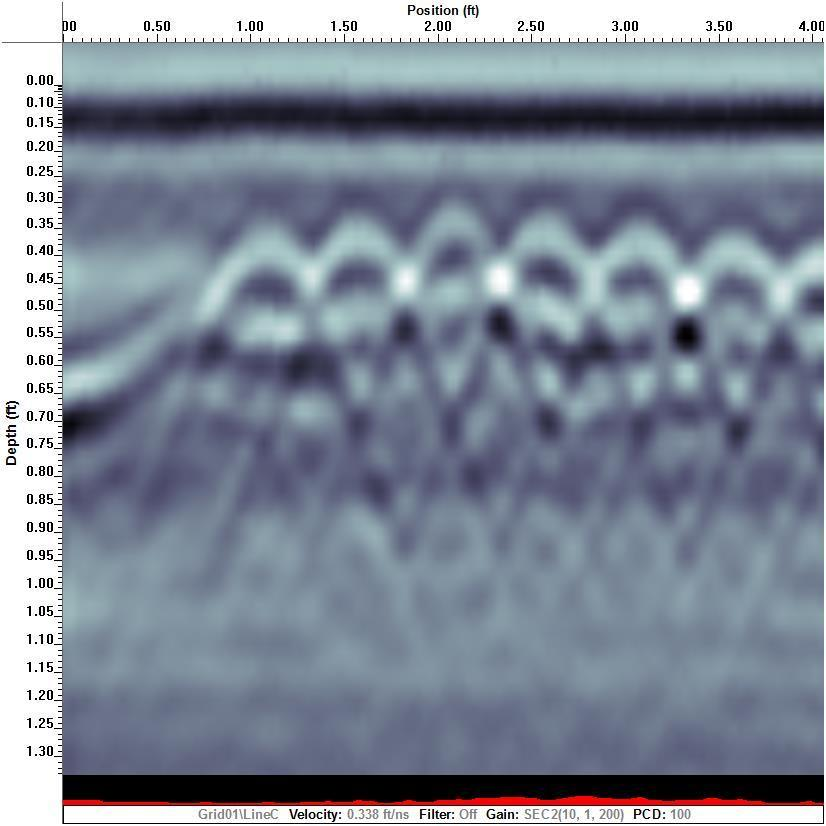hyperbola: (188, 217, 328, 497), (291, 210, 431, 490), (369, 198, 509, 478), (477, 204, 617, 484), (562, 210, 702, 490), (667, 219, 807, 499)
